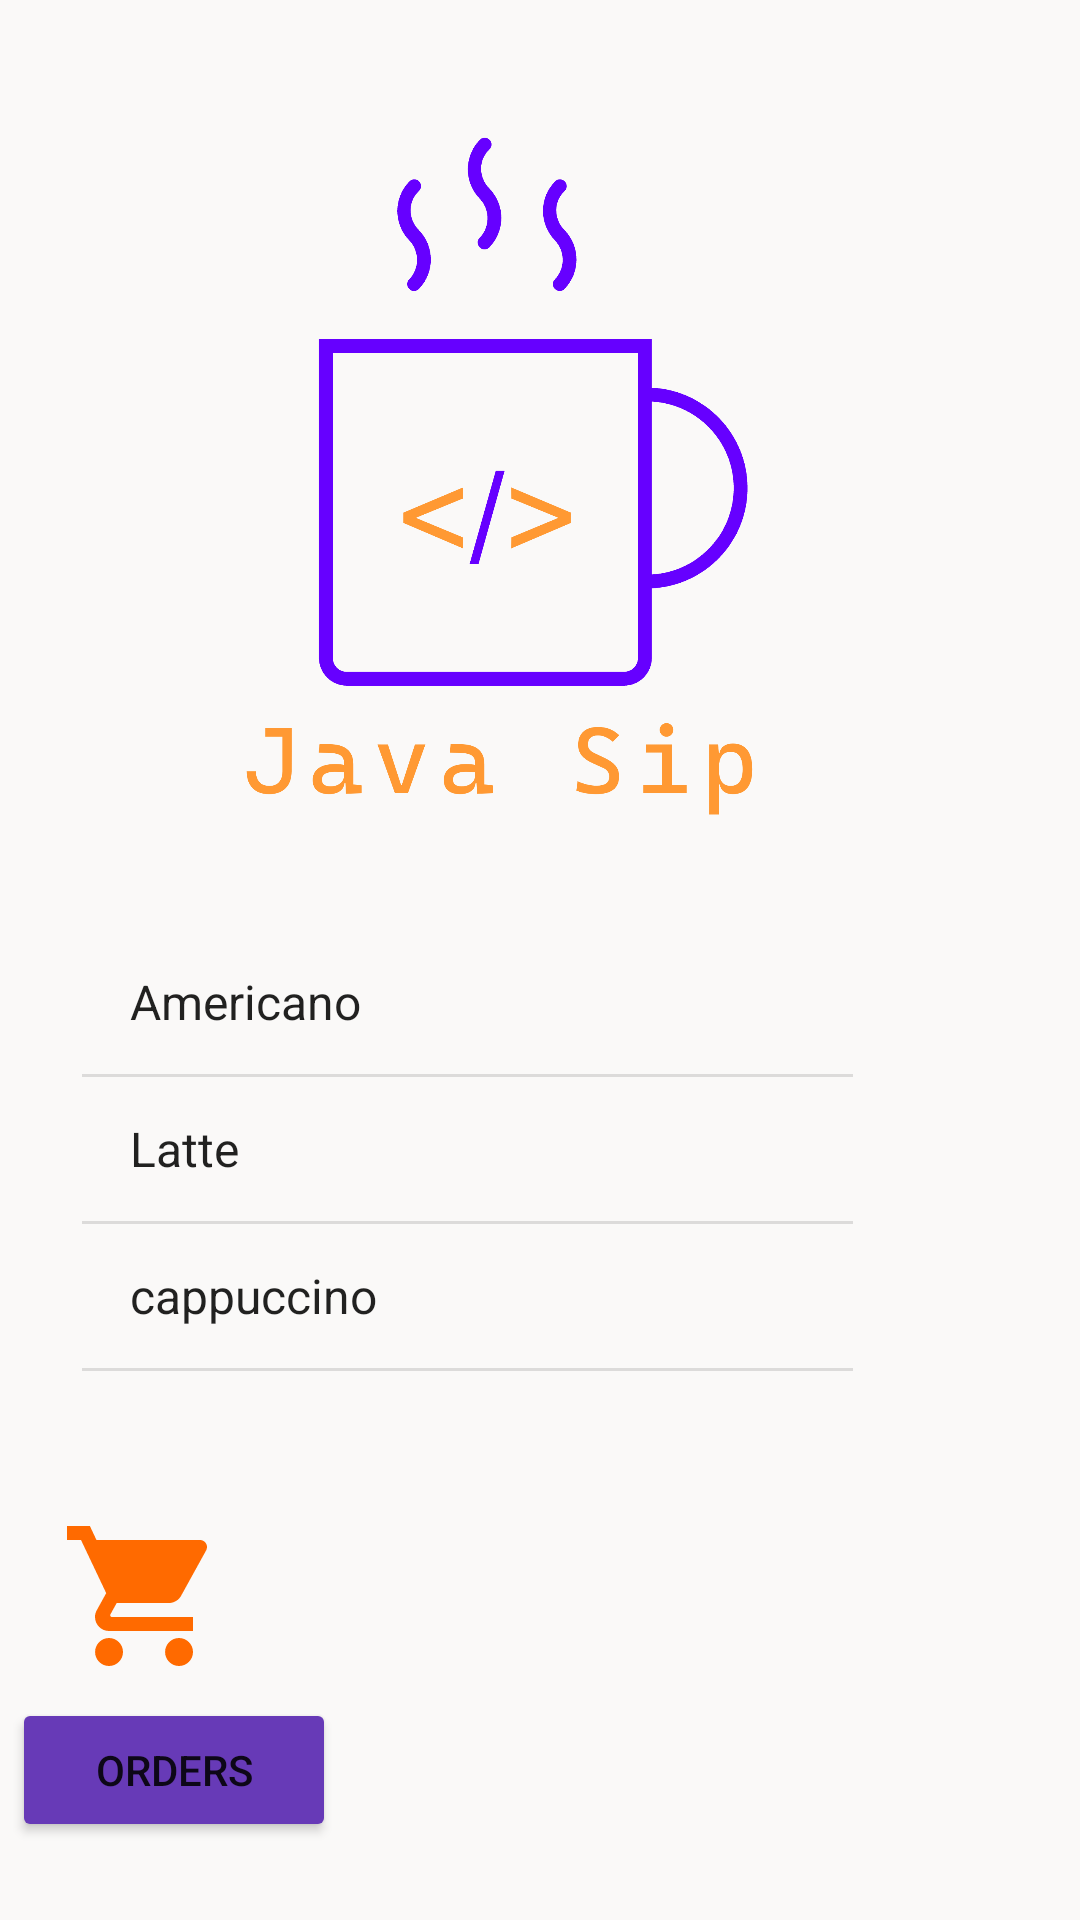

Screen size 1080 x 1920. Icon name, then its box in pixels as (x1, y1, x2, y2):
cart: (67, 1526, 207, 1666)
